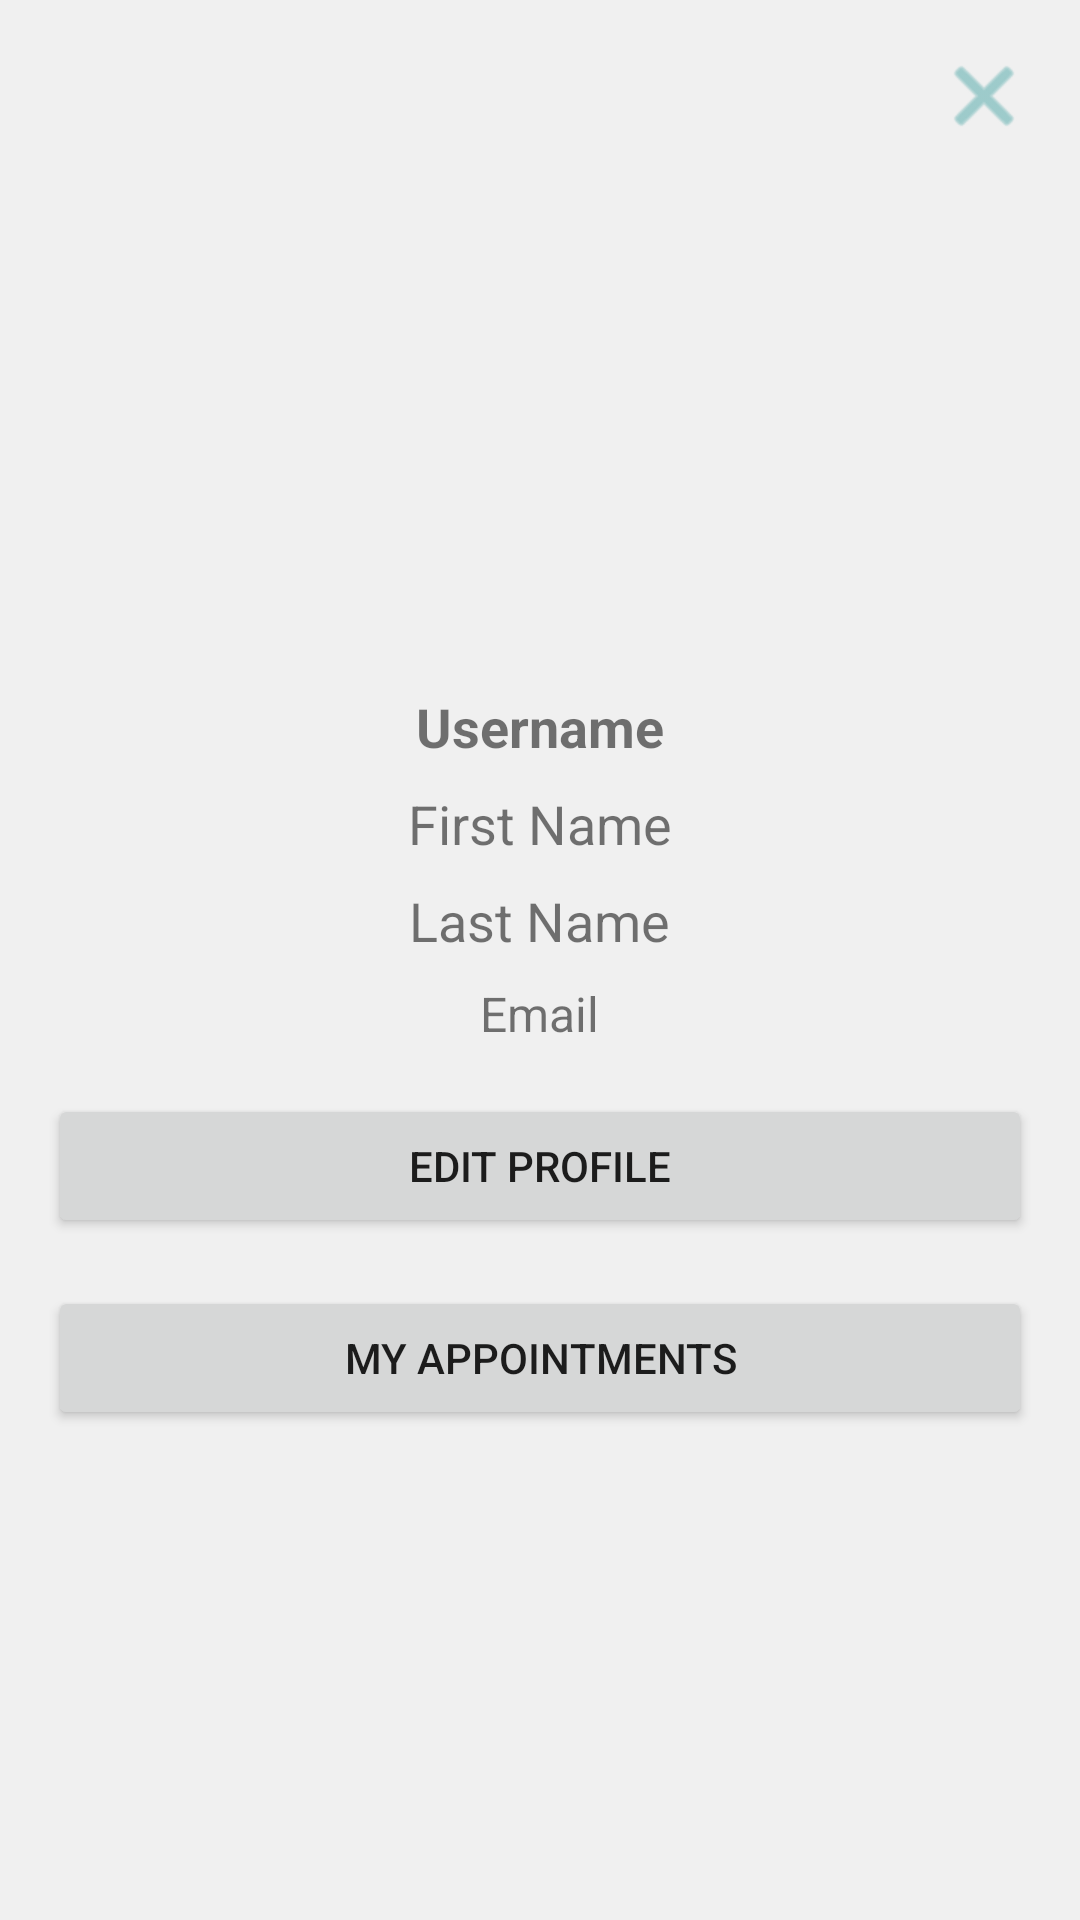

Icons on this 1080*1920 Android screen, each with the point to tap as (x,y):
Close Button: (984,96)
